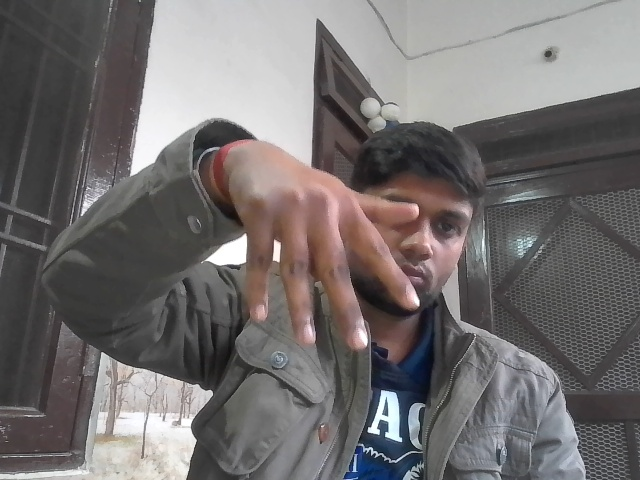HowAreYou: (223, 135, 441, 379)
